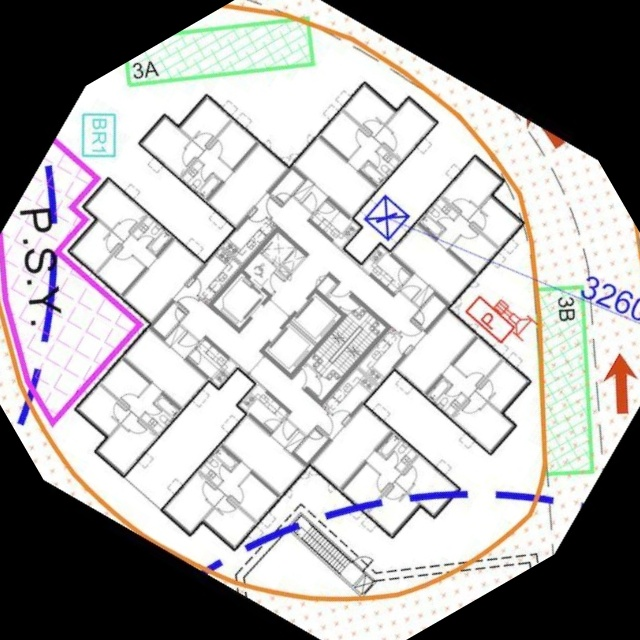tower_crane: (364, 196, 410, 244)
